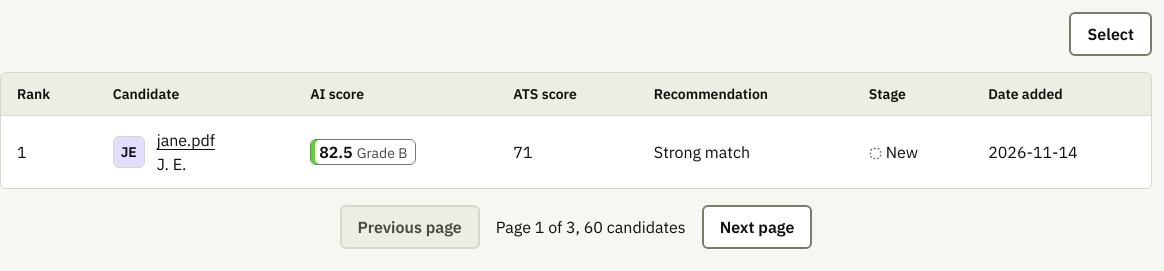
Test: paging › shows where we are and moves between pages, starting again at page 1 after a sort
The width and height of the screenshot is (1164, 271).
Check: the text "Page 1 of 3, 60 candidates" is shown, box [496,215,686,239]
Check: the button "Previous page" is disabled, box [340,205,480,249]
Click the button "Next page" at (757, 227), box [702,205,812,249]
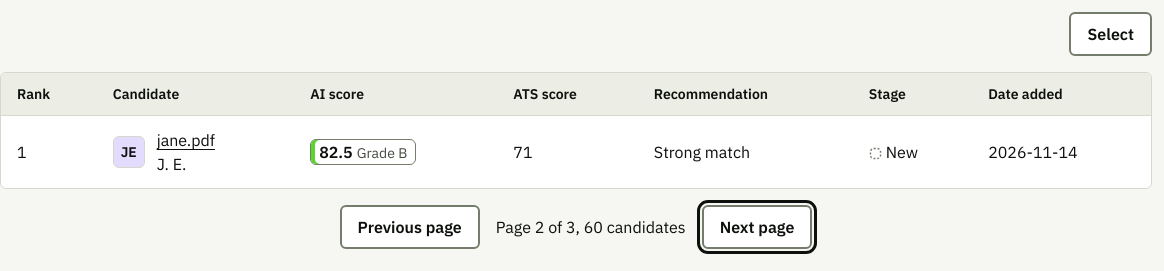
Check: the text "Page 2 of 3, 60 candidates" is shown, box [496,215,686,239]
Click the button "Candidate" at (146, 94), box [113,85,179,103]
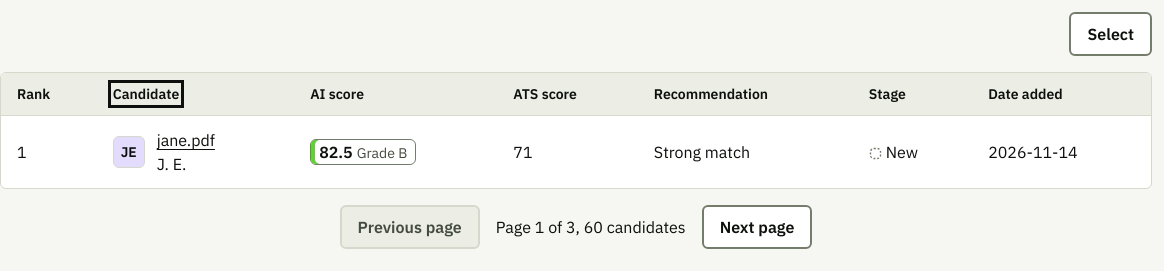
Check: the text "Page 1 of 3, 60 candidates" is shown, box [496,215,686,239]
